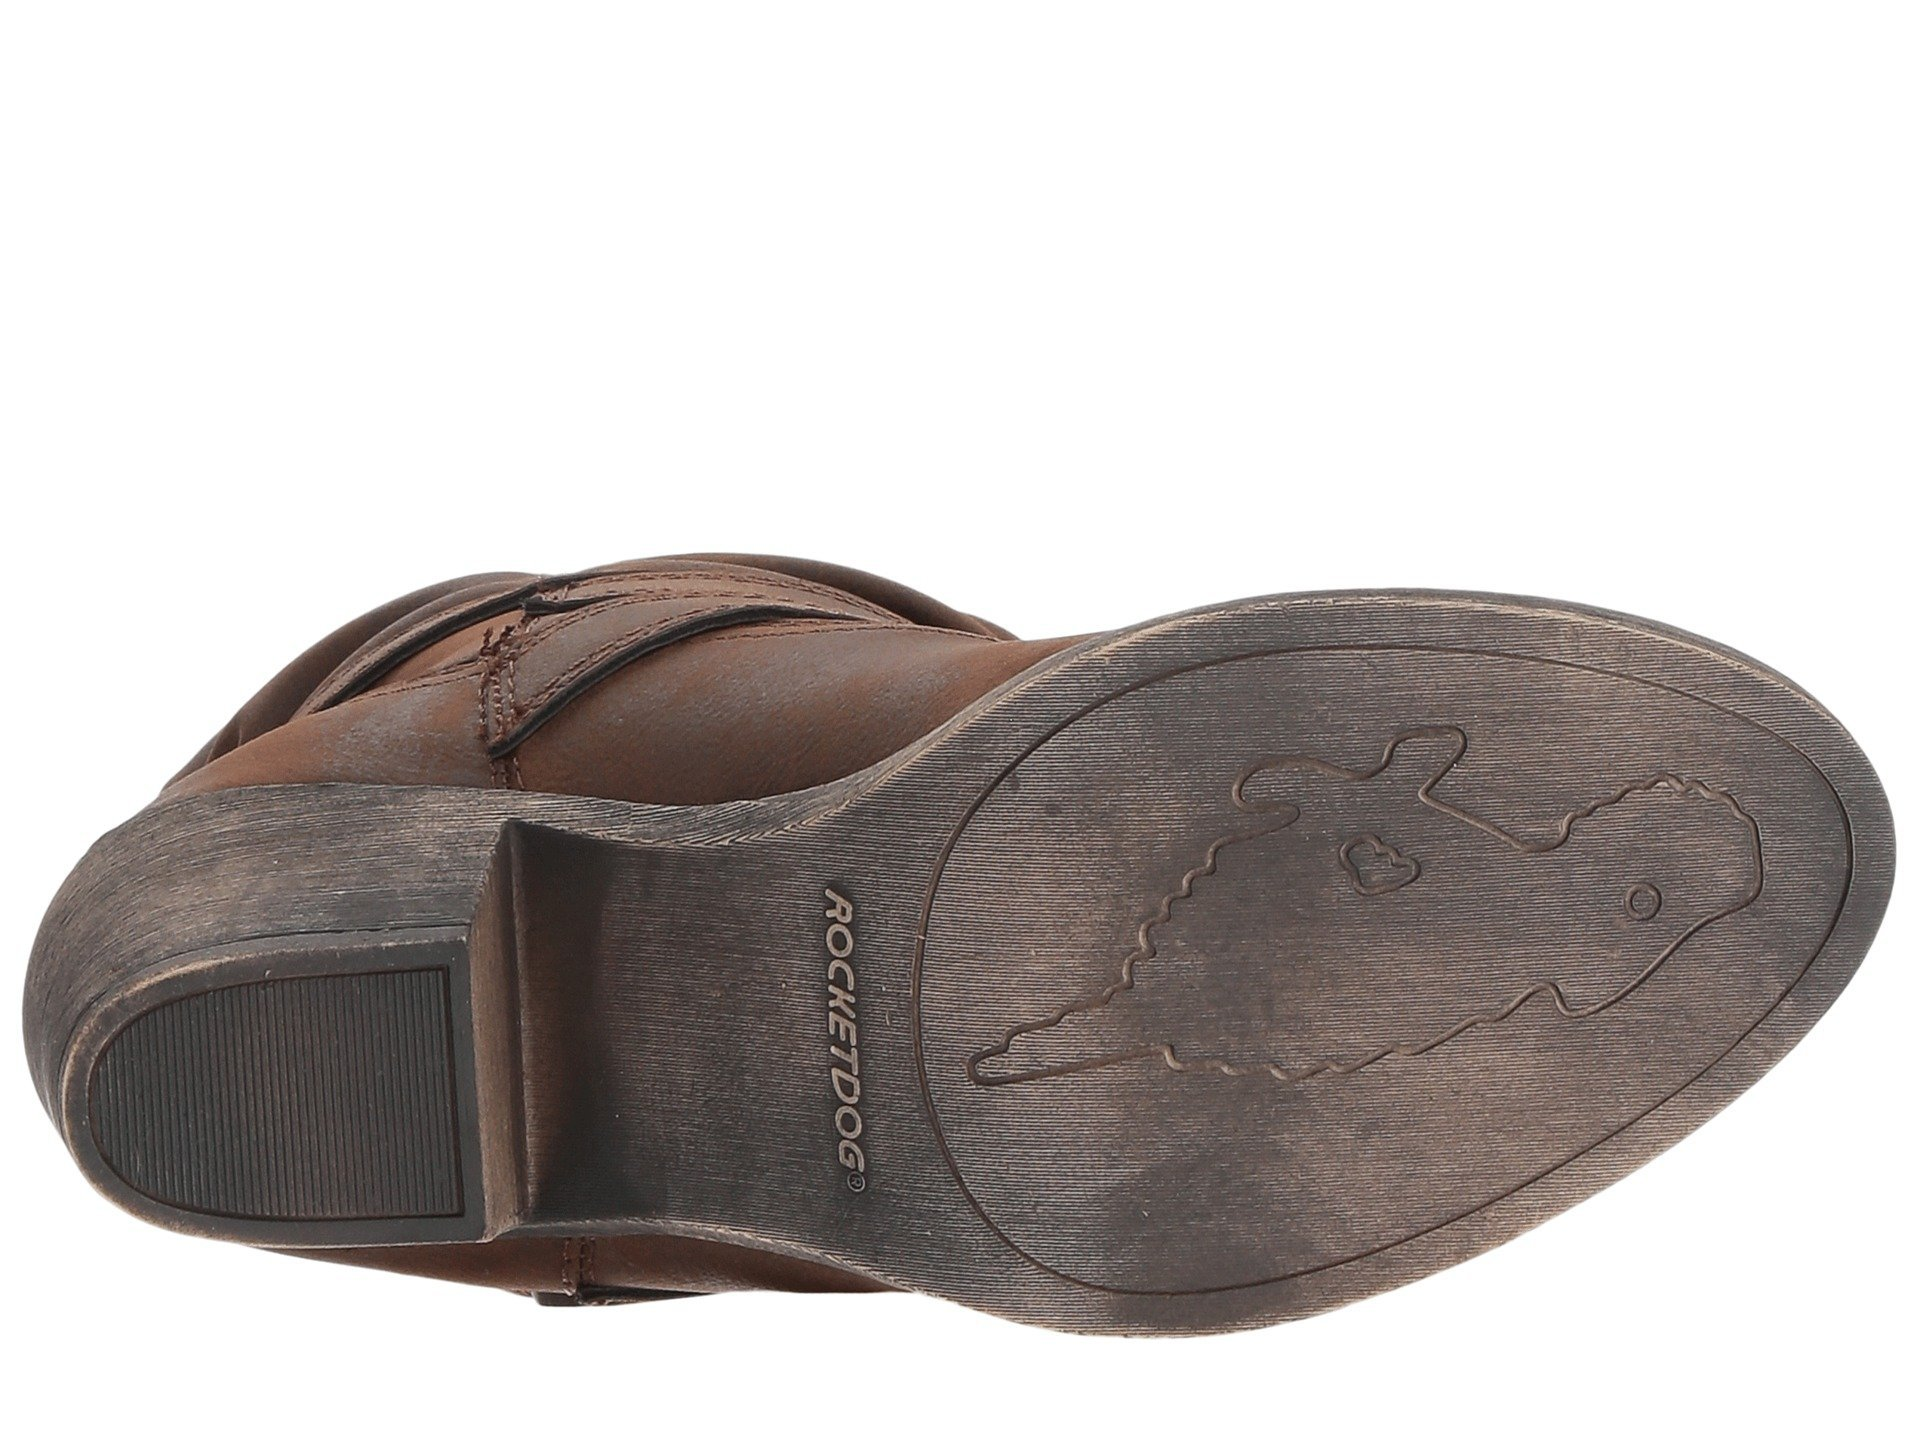circle: (1457, 664, 1781, 988), (763, 877, 974, 1168)
line: (1016, 777, 1453, 1230), (1457, 664, 1781, 988), (763, 877, 974, 1168), (163, 1010, 381, 1209)
text: (763, 877, 974, 1168)
